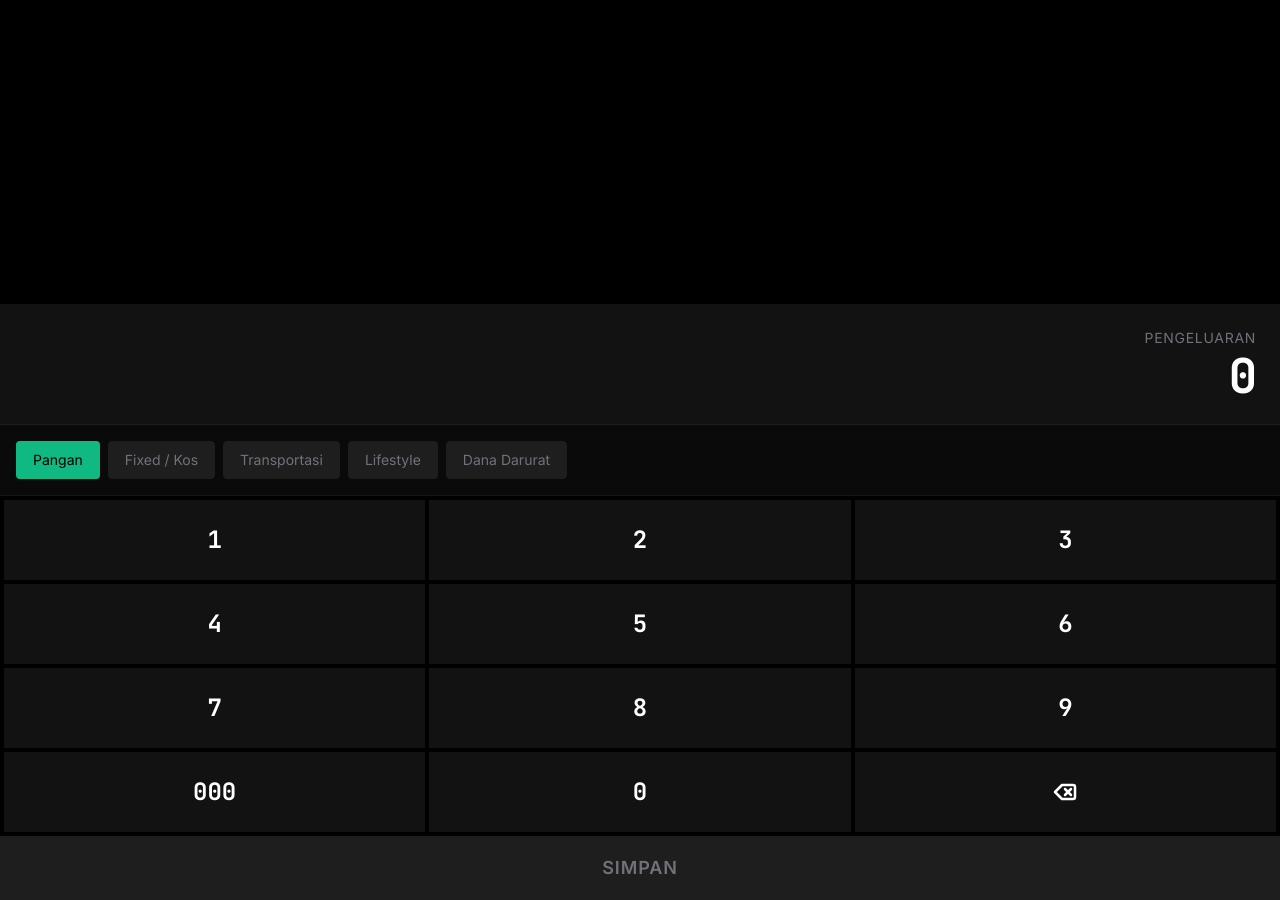
KeypadModal.vue › appends digits to amount display on key press
The image size is (1280, 900).
Note: Press "5" (index 4)
What coordinates should you click on to do the following:
click the button "5"
I would click on:
 (640, 624)
Its box is [429,584,851,664].
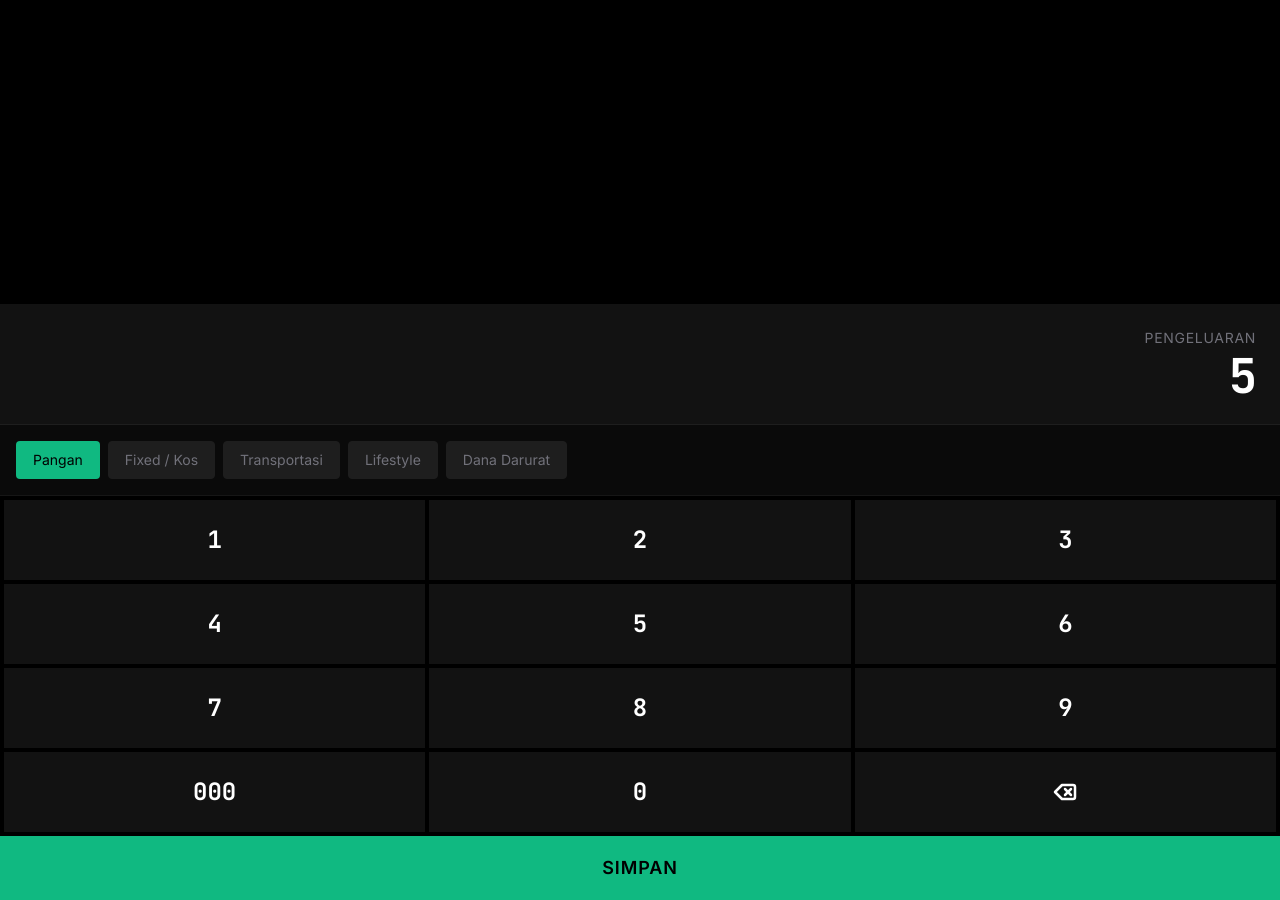
Result: the text "5" is shown at [1228,344,1256,407]
Note: Press "3" (index 2)
What coordinates should you click on to do the following:
click the button "3"
I would click on:
 (1065, 540)
Its box is [855,500,1276,580].
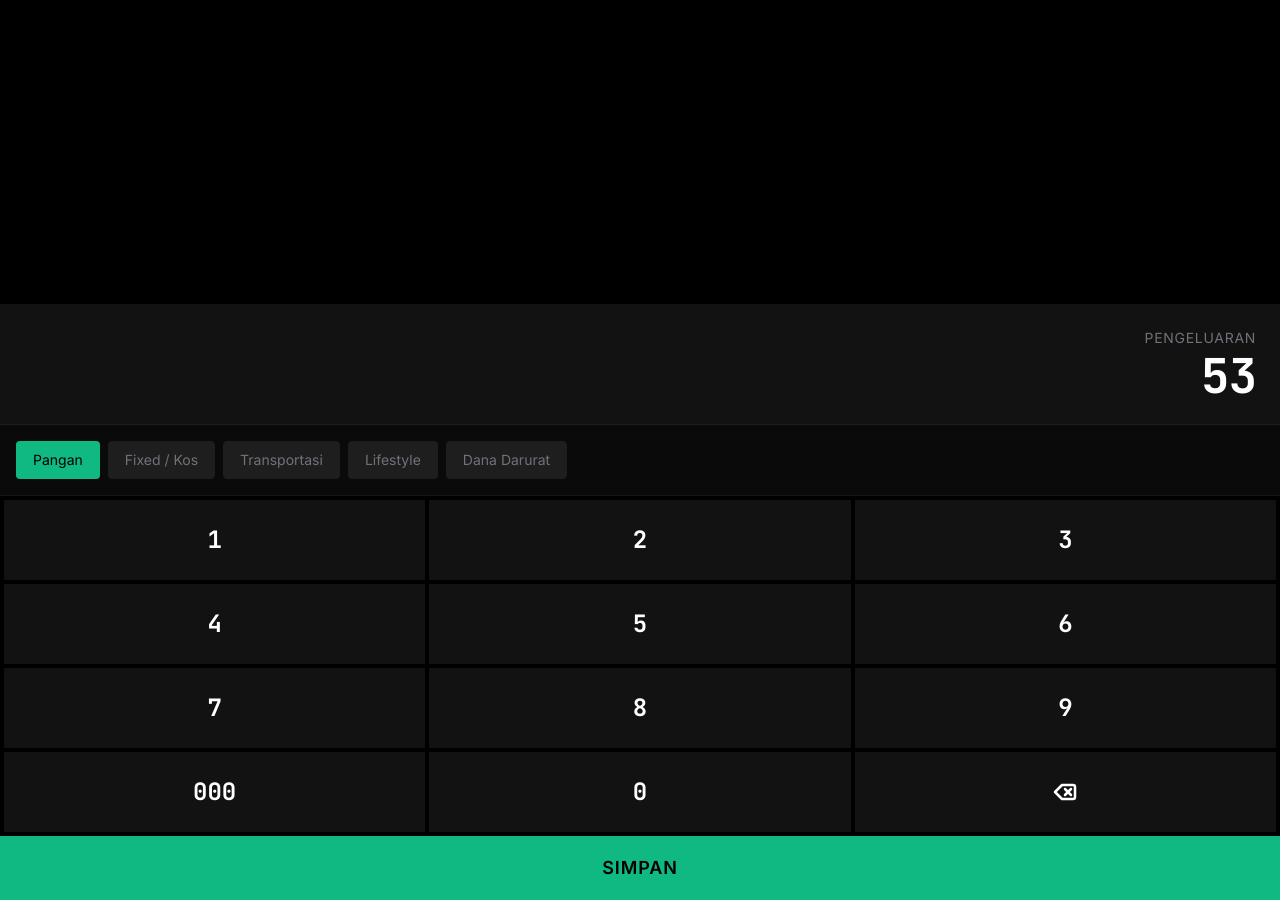
Result: the text "53" is shown at [1201,344,1256,407]
